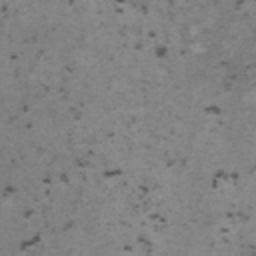Oxide scale of temperature system: (2, 35, 176, 256), (118, 3, 232, 115), (211, 169, 251, 222), (235, 0, 245, 10)
